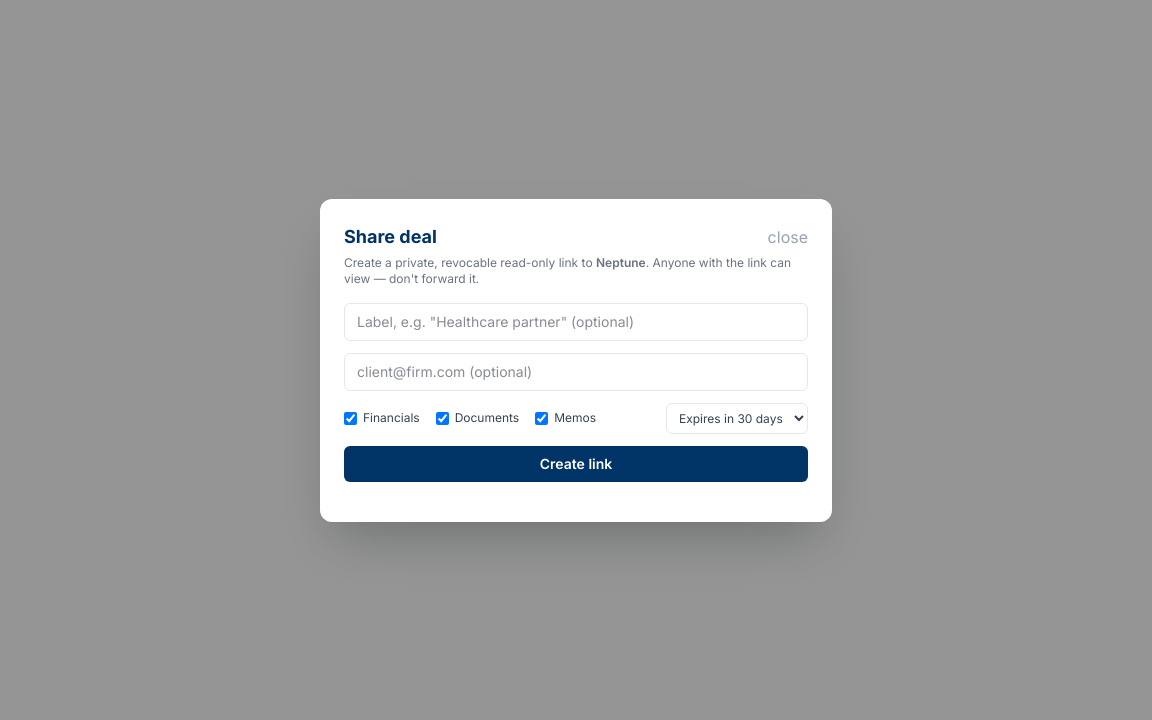
Test: ShareDealModal › creates a share with defaults and shows the returned link
The width and height of the screenshot is (1152, 720).
Step 1. Click the button "Create link" → (576, 464), box [344,446,808,482]
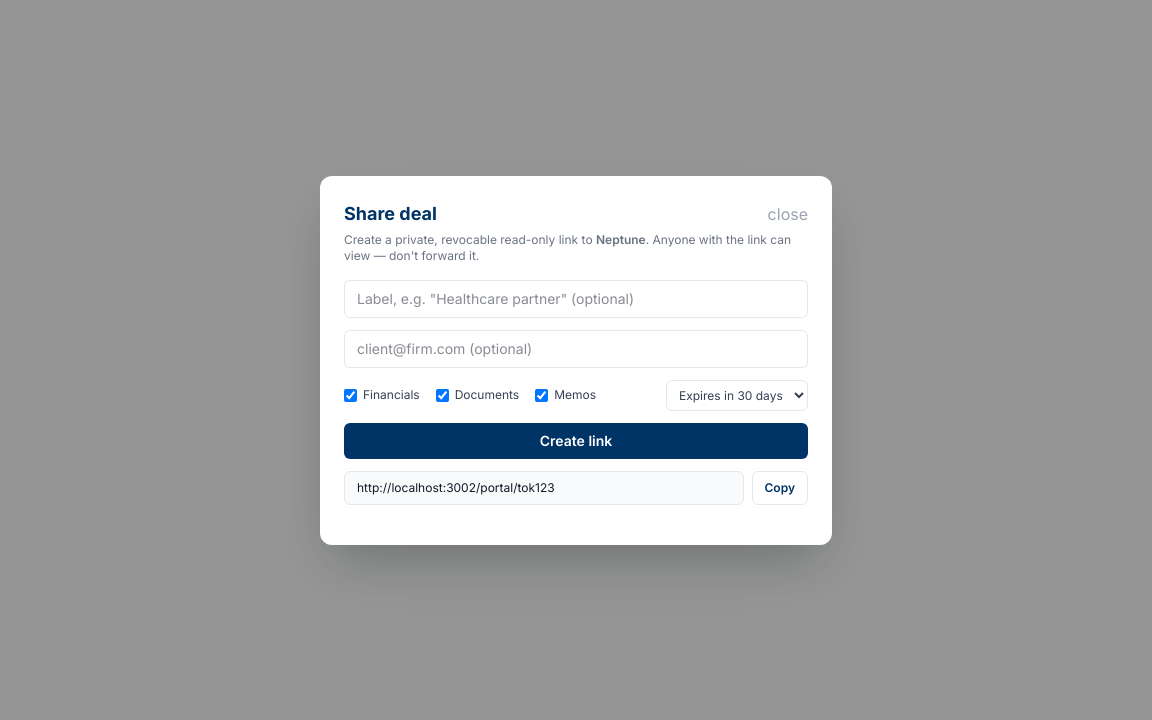
Result: the field showing "http://localhost:3002/portal/tok123" is shown at [344,470,744,504]
